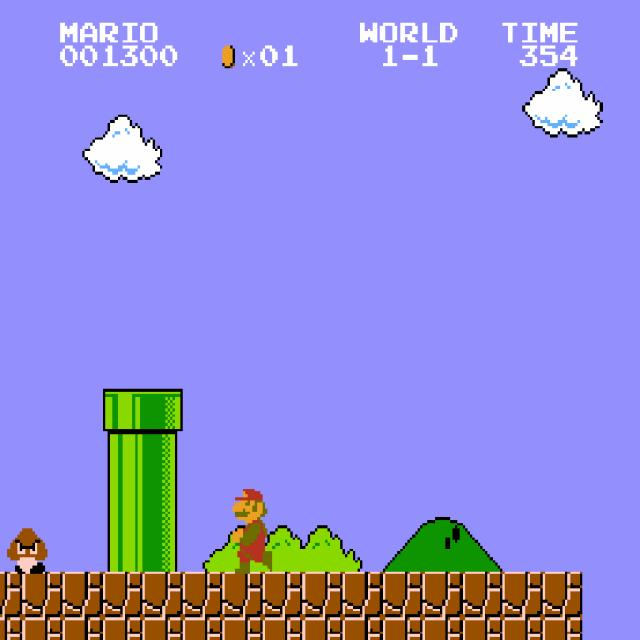big_mario: (230, 480, 272, 574)
goomba: (5, 526, 47, 574)
pipe: (102, 434, 143, 480), (102, 480, 143, 526), (142, 434, 183, 480), (142, 480, 183, 526), (102, 526, 143, 571), (142, 526, 183, 571)
pipe_head: (102, 389, 143, 434), (142, 389, 183, 434)
undestructible_block: (22, 572, 63, 617), (62, 572, 103, 617), (102, 572, 143, 617), (142, 572, 183, 617), (182, 572, 223, 617), (222, 572, 263, 617), (262, 572, 303, 617), (302, 572, 343, 617), (342, 572, 383, 617), (382, 572, 423, 617), (422, 572, 463, 617), (462, 572, 503, 617), (502, 572, 543, 617), (542, 572, 583, 617), (0, 572, 22, 617), (22, 617, 63, 640), (62, 617, 103, 640), (102, 617, 143, 640), (142, 617, 183, 640), (182, 617, 223, 640), (222, 617, 263, 640), (262, 617, 303, 640), (302, 617, 343, 640), (342, 617, 383, 640), (382, 617, 423, 640), (422, 617, 463, 640), (462, 617, 503, 640), (502, 617, 543, 640), (542, 617, 583, 640), (0, 617, 22, 640)
